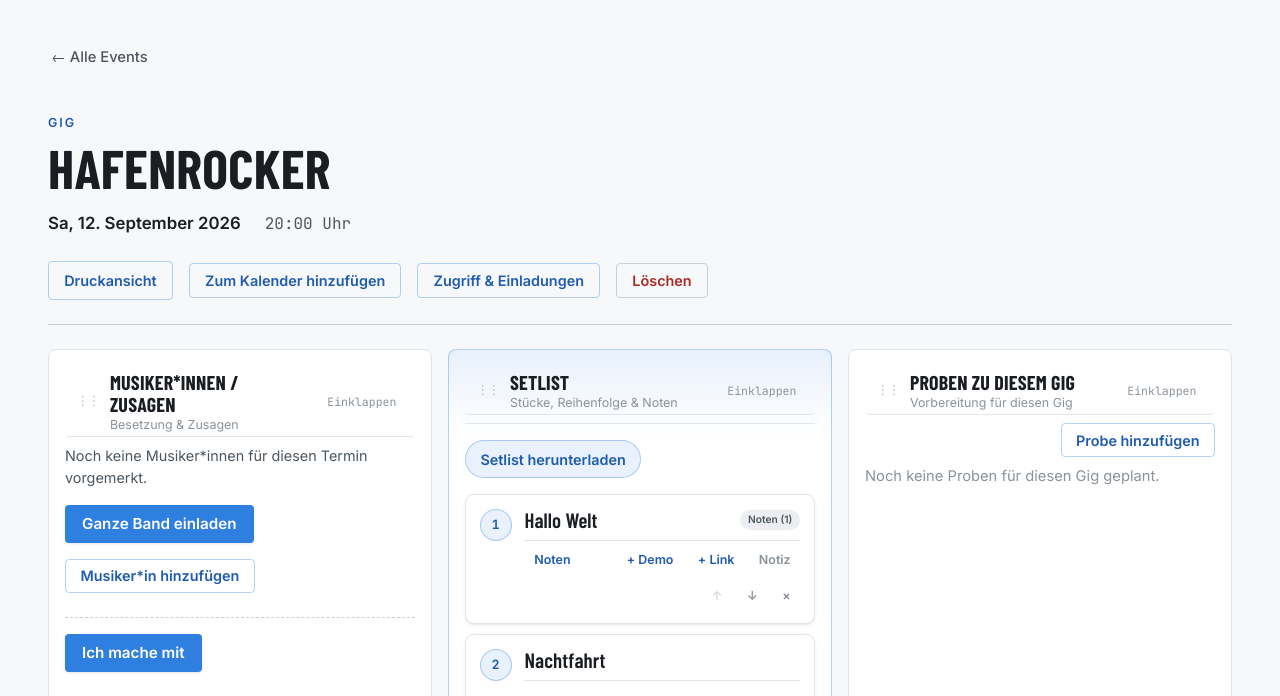
Test case: EventDetailComponent › should show a notes badge and open the sheet manager
What coordinates should you click on to do the following:
click the button with class "entry__btn--pdf" showing "Noten"
I would click on:
 (552, 561)
Its box is [524,547,580,574].
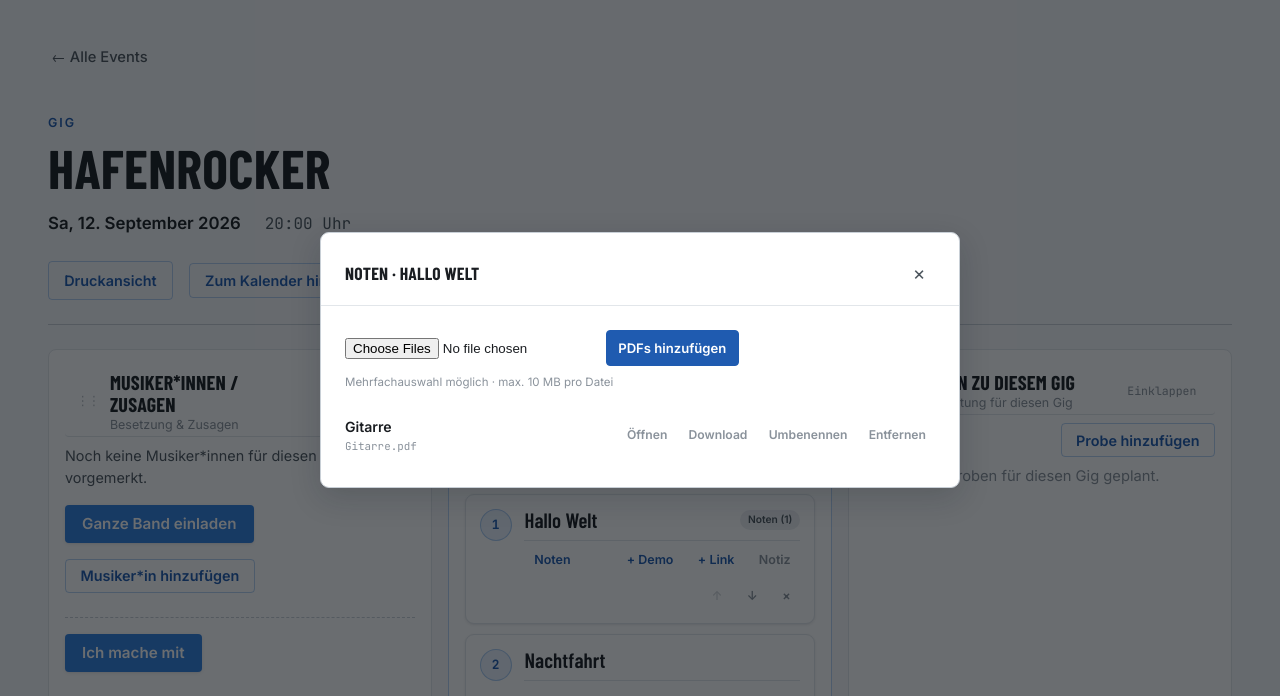
Now the text with class "sheet__label" reads "Gitarre", box [345,418,392,436]
